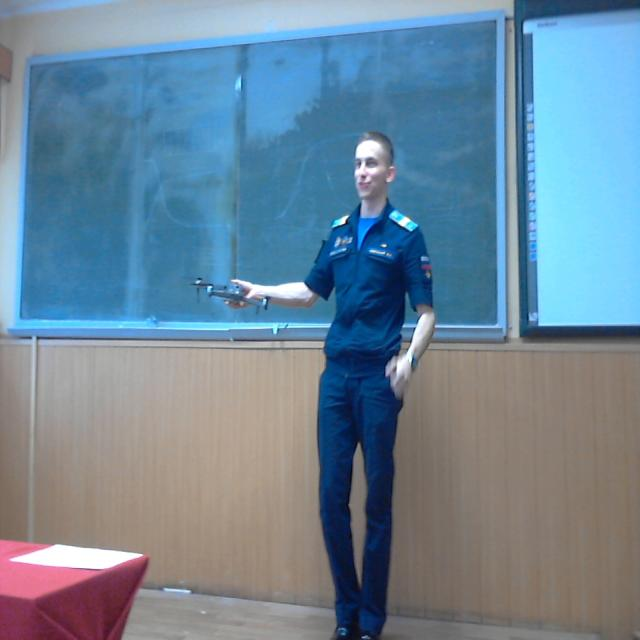drone: (181, 260, 282, 321)
